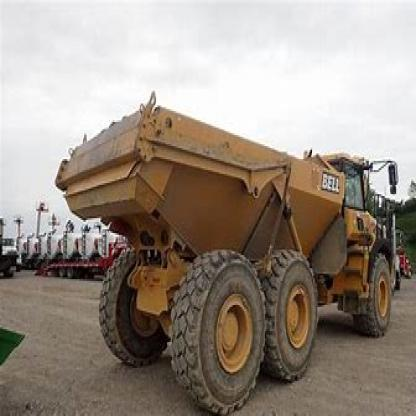dump_truck: (54, 95, 402, 410)
